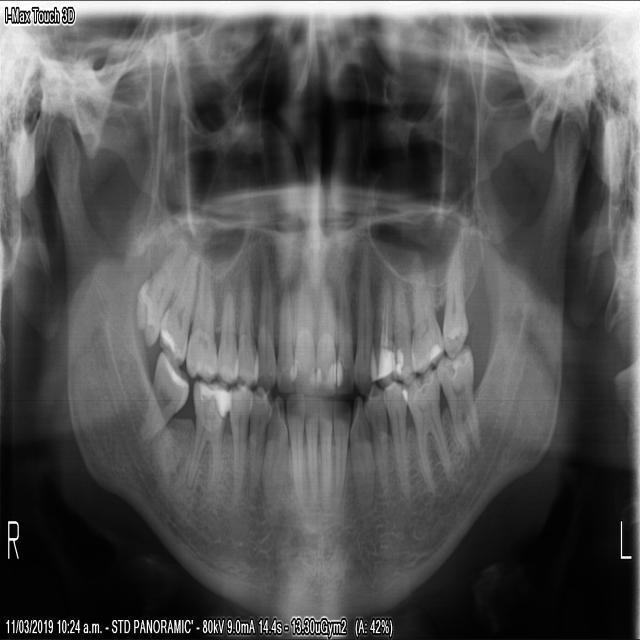LCD: (348, 395, 374, 506)
LCU: (354, 251, 374, 396)
LID: (332, 399, 350, 515), (316, 399, 332, 511)
LIU: (315, 274, 335, 397), (335, 271, 354, 396)
LMD: (407, 366, 453, 493), (436, 340, 480, 461)
LMU: (409, 266, 445, 373), (440, 239, 470, 359)
LPMD: (363, 382, 389, 499), (383, 382, 409, 499)
LPMU: (392, 274, 416, 386), (374, 269, 394, 386)
RCD: (260, 394, 286, 516)
RCU: (251, 250, 273, 398)
RID: (284, 401, 303, 513), (303, 396, 317, 510)
RIU: (292, 268, 314, 394), (272, 278, 292, 394)
RMD: (134, 349, 188, 445), (183, 379, 227, 493)
RMU: (133, 232, 188, 349), (156, 244, 198, 366), (184, 255, 216, 381)
RPMD: (226, 382, 251, 508), (248, 389, 269, 501)
RPMU: (233, 262, 253, 389), (214, 279, 235, 384)
